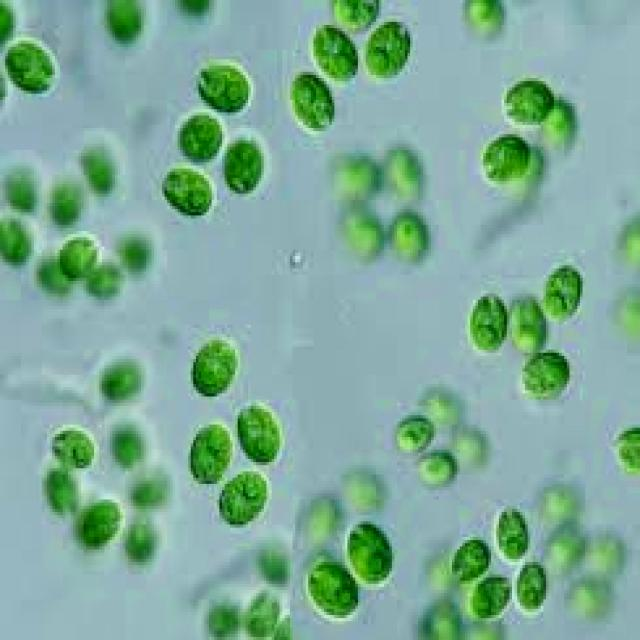Green Algae: (3, 34, 60, 97), (342, 518, 394, 587), (152, 166, 214, 222), (358, 19, 413, 81), (306, 559, 363, 618), (216, 468, 272, 528), (70, 496, 126, 556), (193, 56, 251, 112), (308, 25, 361, 84), (238, 397, 282, 465), (193, 334, 240, 397), (499, 75, 554, 128), (99, 3, 157, 53), (290, 66, 332, 134), (468, 290, 512, 353), (222, 128, 261, 197), (188, 421, 230, 484), (481, 134, 530, 184), (544, 262, 582, 325), (491, 502, 533, 558), (243, 580, 282, 640), (175, 112, 222, 160), (465, 574, 512, 622), (47, 428, 99, 471), (449, 534, 496, 581), (58, 231, 107, 275), (386, 137, 421, 197), (520, 353, 572, 393), (509, 296, 546, 352), (329, 156, 379, 197), (2, 209, 36, 269), (342, 206, 382, 256), (47, 175, 86, 225), (84, 137, 120, 190), (517, 556, 549, 615), (460, 3, 507, 41), (415, 446, 457, 487), (394, 209, 428, 259), (392, 412, 434, 450), (99, 359, 141, 397), (86, 259, 125, 297), (423, 602, 462, 637), (332, 3, 384, 28)
